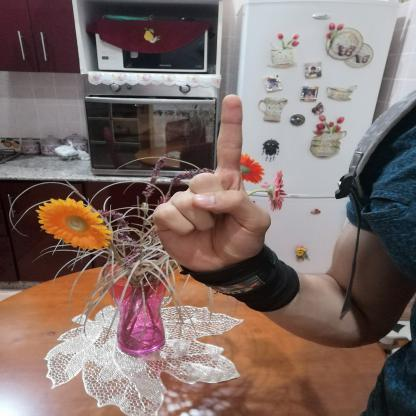BAA: (144, 87, 286, 282)
